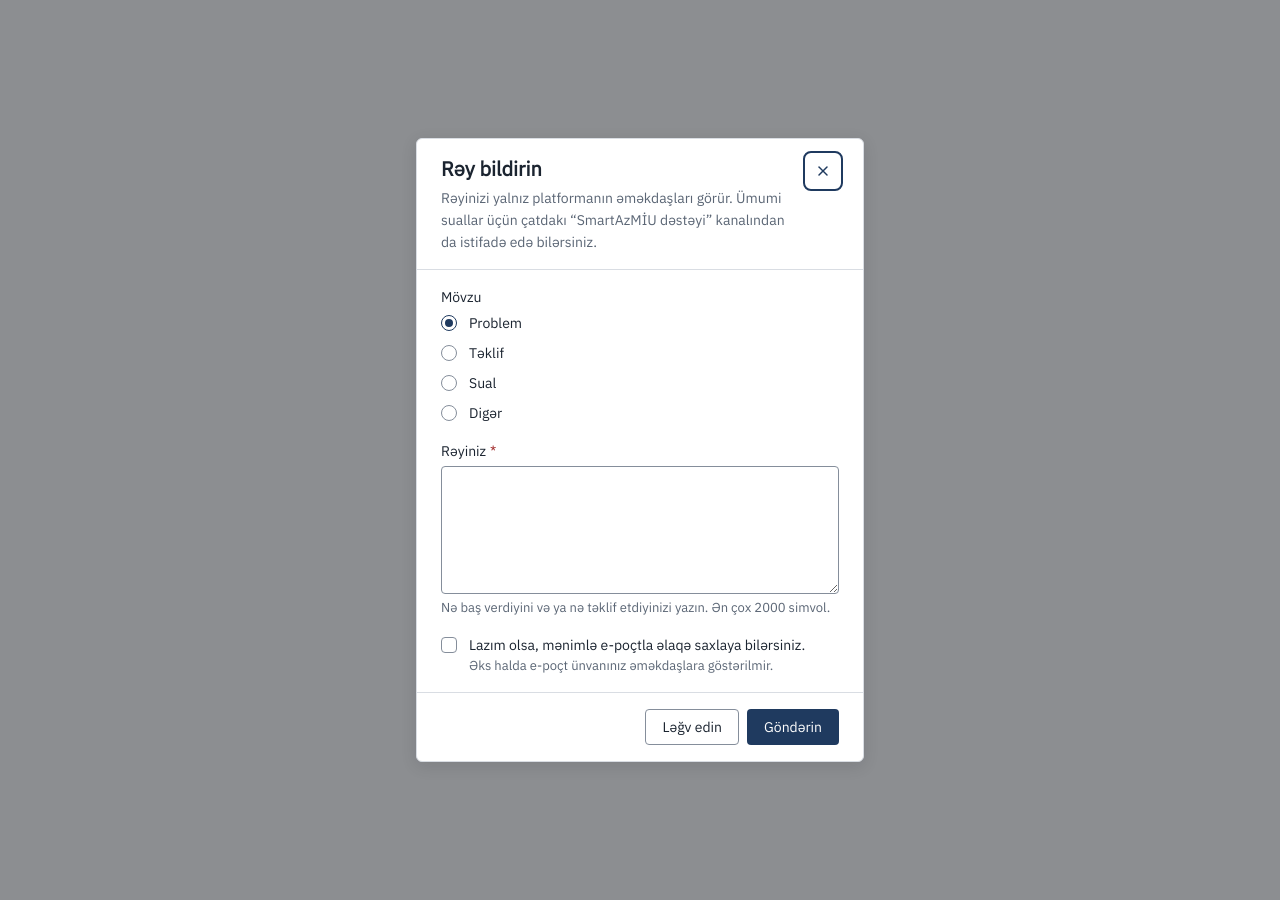
it: FeedbackDialog › asks for the text, then sends it with the current page and the contact choice
The image size is (1280, 900).
Click the button "Göndərin". click: (793, 727)
box: [747, 709, 839, 745]
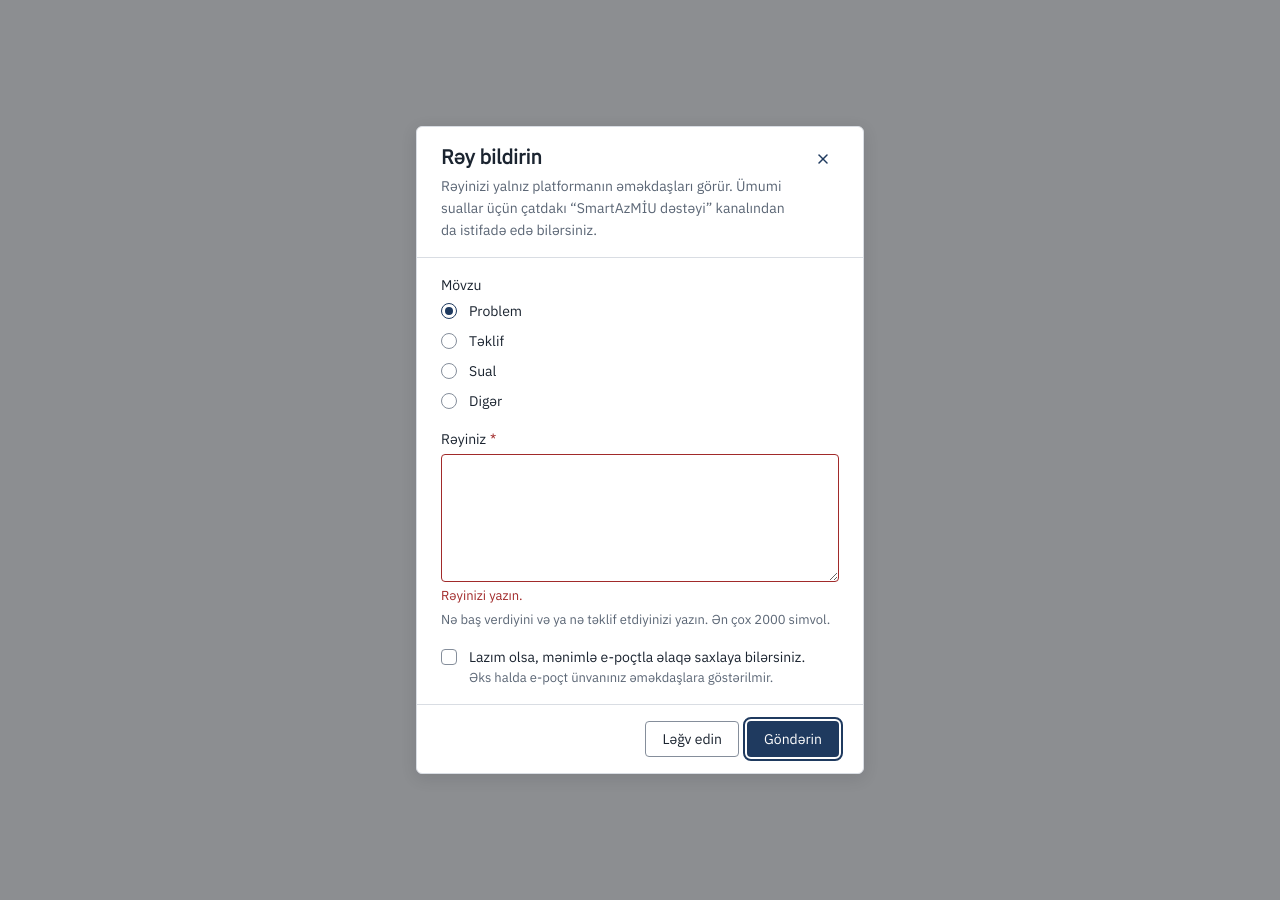
Expected: the text "Rəyinizi yazın." is shown, [441, 587, 523, 604]
Click the 2nd radio button named "Təklif". click: (449, 341)
box: [441, 333, 457, 349]
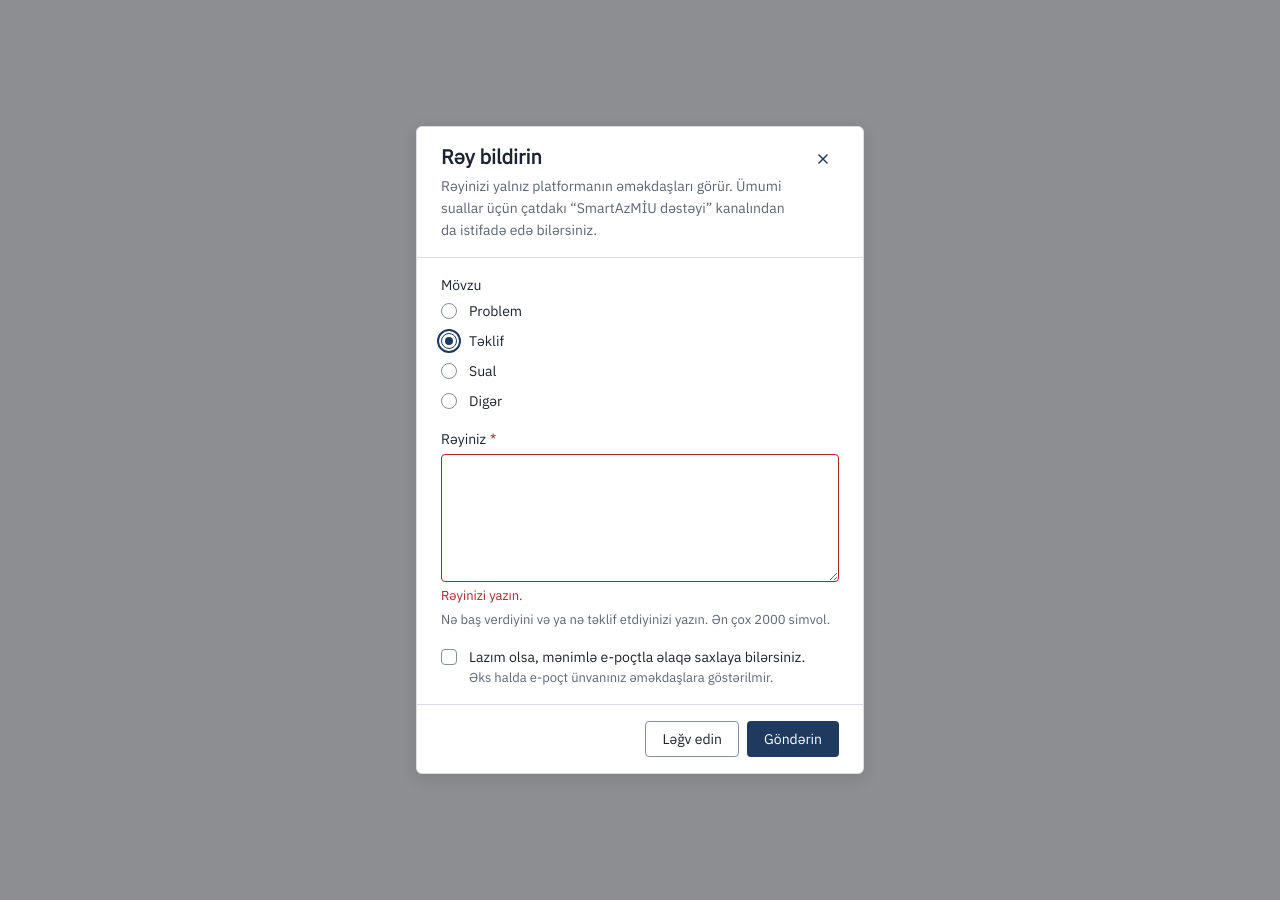
Type "Cədvəldə otaq nömrəsini daha iri göstərin." into the text box. click: (640, 518)
box: [441, 454, 839, 582]
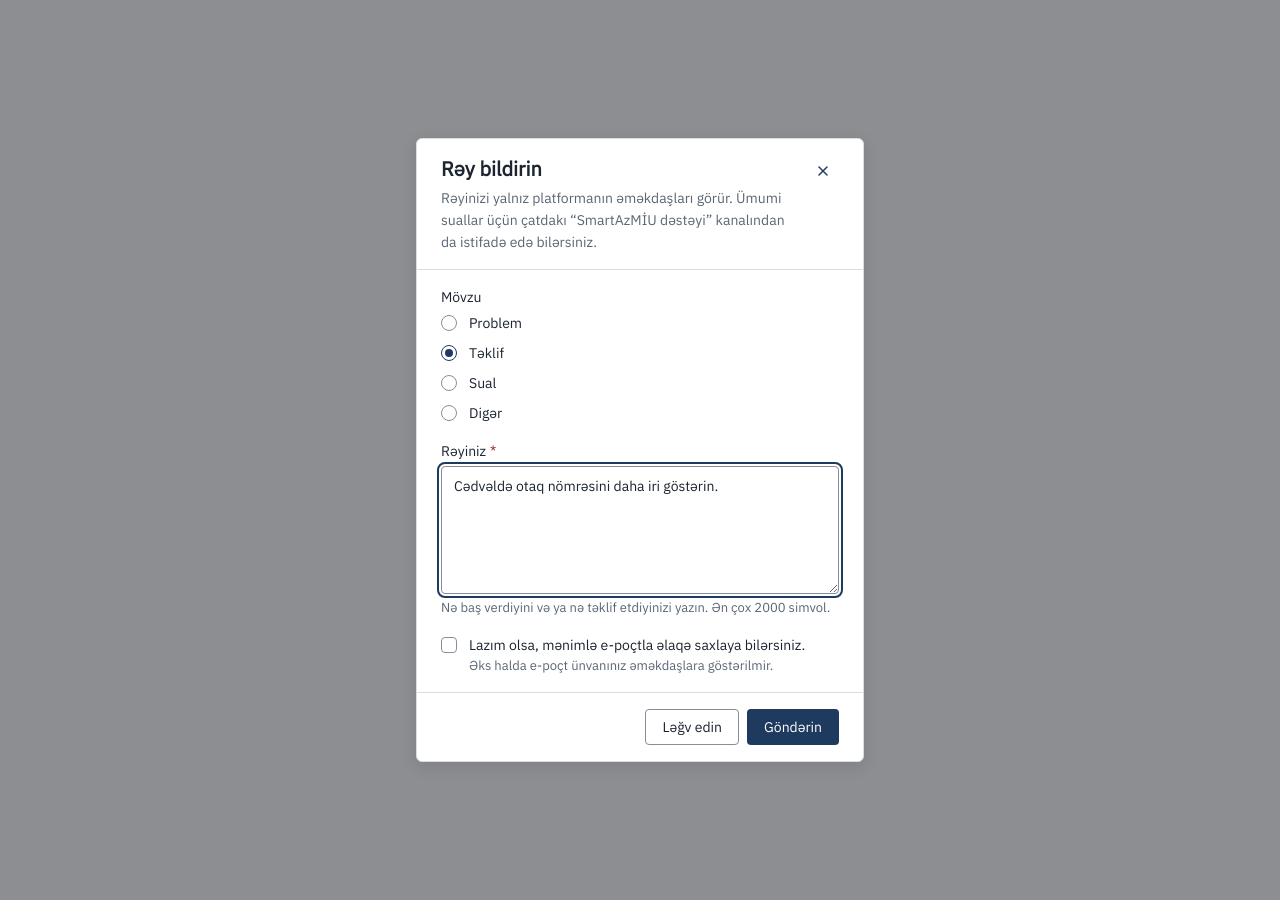
Click the checkbox. click: (449, 645)
box: [441, 637, 457, 653]
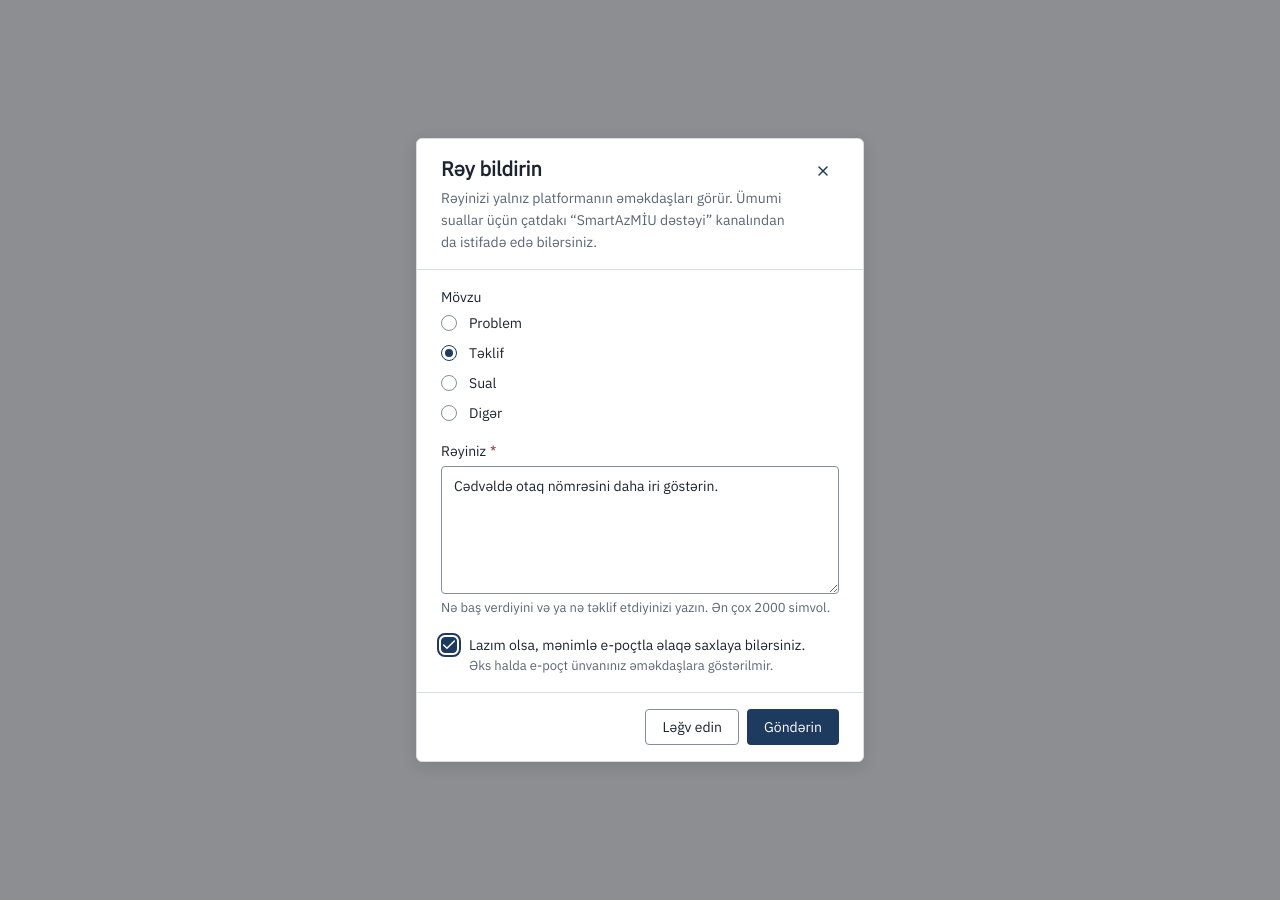
Click the button "Göndərin". click: (793, 727)
box: [747, 709, 839, 745]
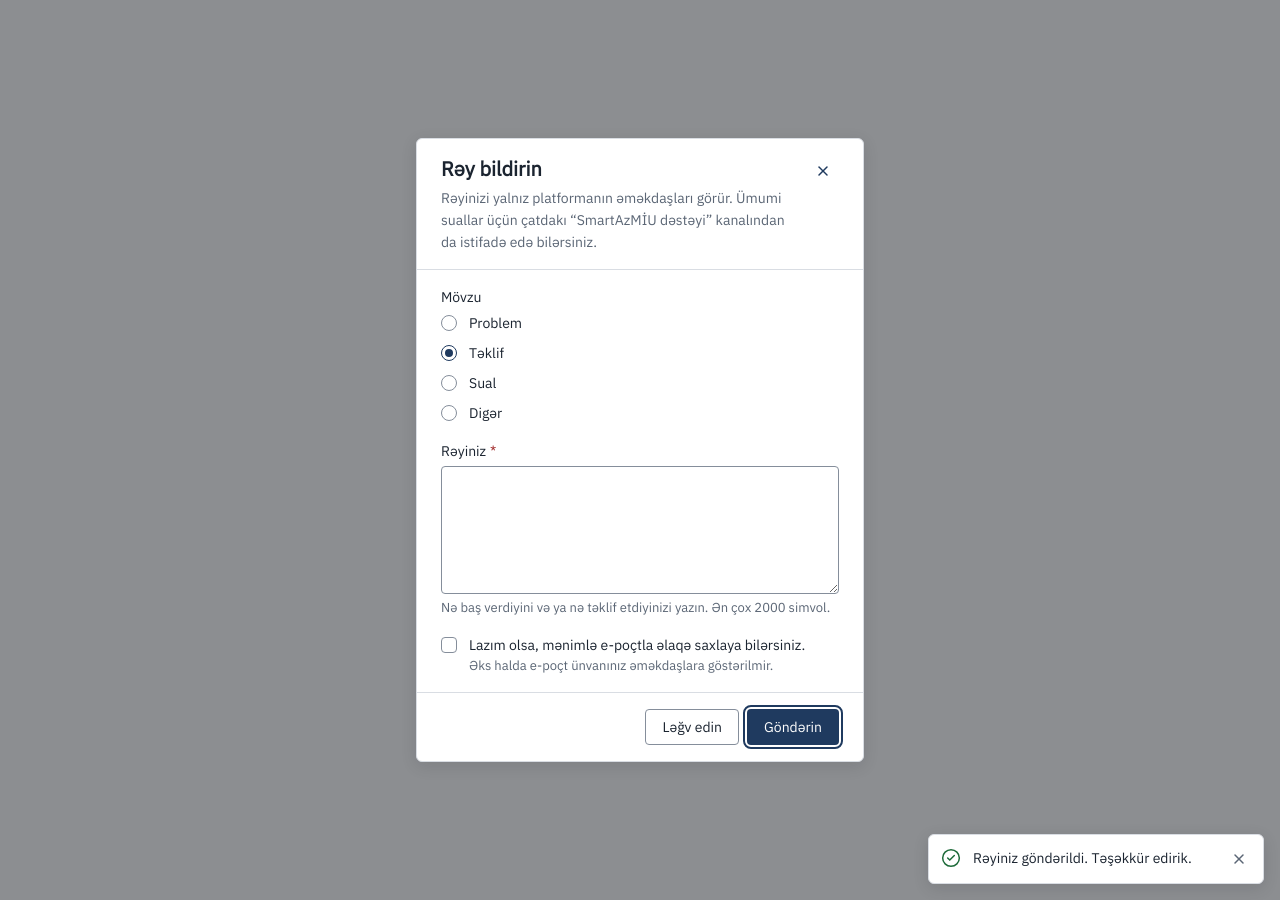
Expected: the text "Rəyiniz göndərildi. Təşəkkür edirik." is shown, [973, 847, 1215, 869]
